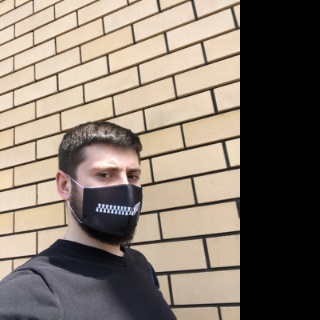with_mask: (80, 157, 144, 244)
